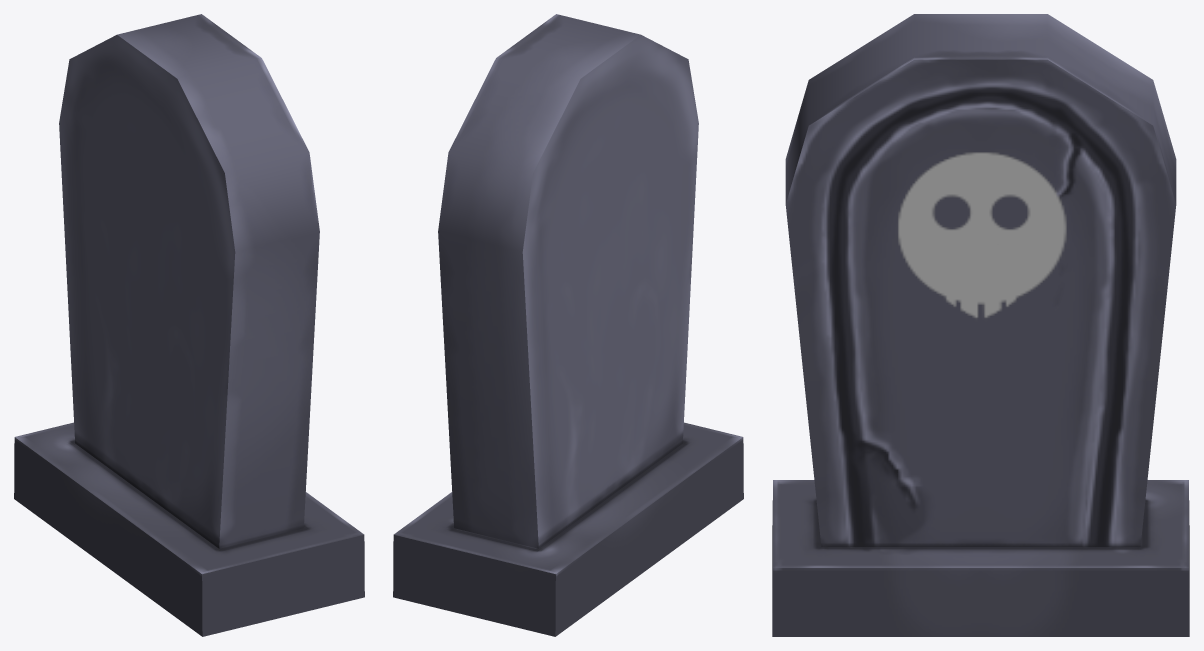
The model's file is Gravestone_1.fbx.
3 views of the same model, side by side, from view 1: azimuth 30°, elevation 25°; view 2: azimuth 150°, elevation 25°; view 3: azimuth 270°, elevation 25° (orthographic). The views are drawn at different scales.
Parts seen in each view (by area): view 1: Gravestone_Basic; view 2: Gravestone_Basic; view 3: Gravestone_Basic.
Boxes of the visible parts, box(x1,y1,x2,y2) form: Gravestone_Basic: box(14, 14, 364, 636); Gravestone_Basic: box(393, 14, 743, 636); Gravestone_Basic: box(772, 14, 1189, 636).
Bounding box in the file's own units: 19.9 × 58.78 × 40.
Materials: 1 (1 with a texture image).
